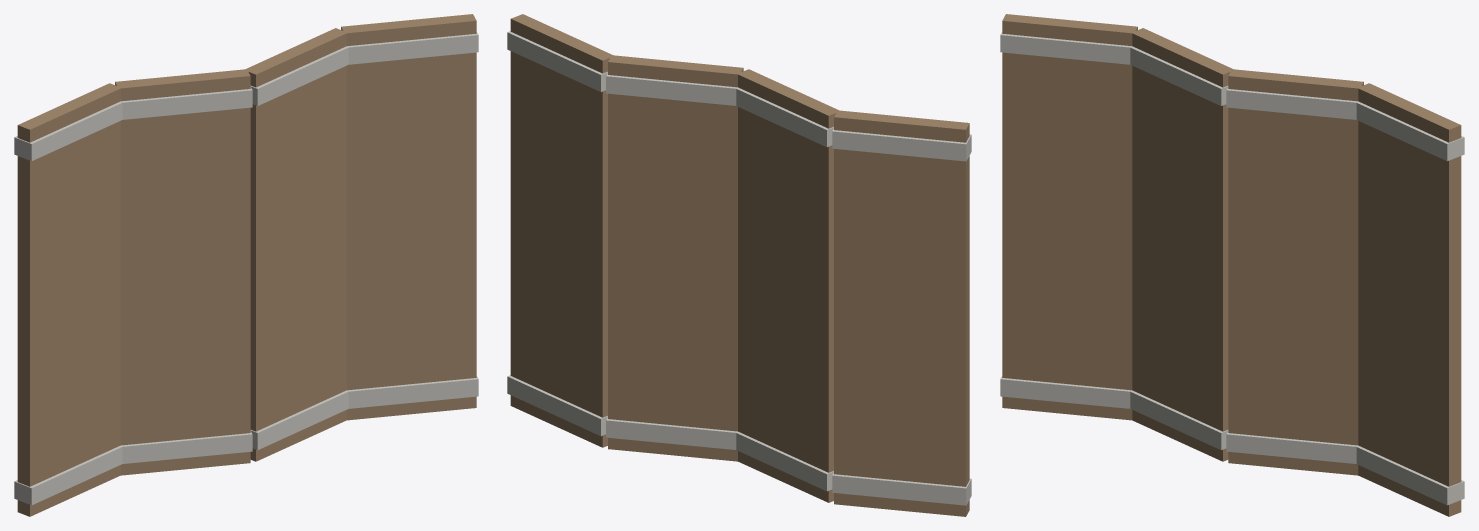
File: folding_room_divider.glb
The picture shows the model from 3 angles, left to right: view 1: azimuth 30°, elevation 25°; view 2: azimuth 150°, elevation 25°; view 3: azimuth 330°, elevation 25°; orthographic projection.
Visible parts, largest first — view 1: world; view 2: world; view 3: world.
Part boxes in pixels (<box>): world: <box>14,14,478,516</box>; world: <box>507,14,971,516</box>; world: <box>1000,14,1464,516</box>.
Size of the model in its own units: 2.23 by 1.8 by 0.2669.
